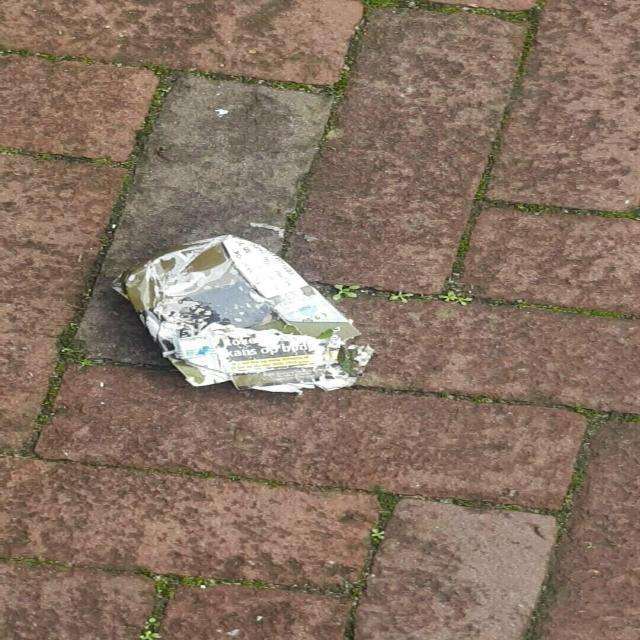Paper: (106, 232, 378, 396)
